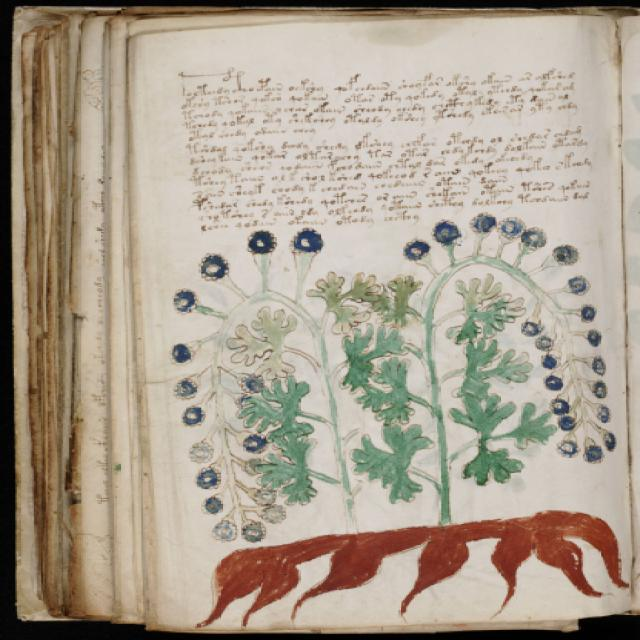plant: (163, 207, 631, 632)
